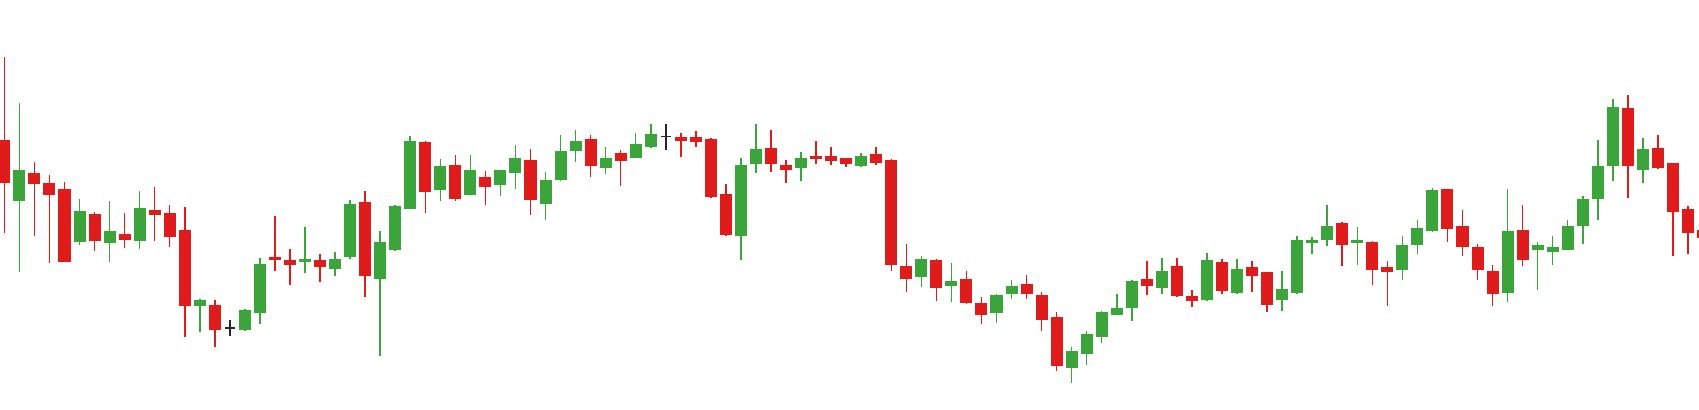buy: (1380, 228, 1516, 313)
